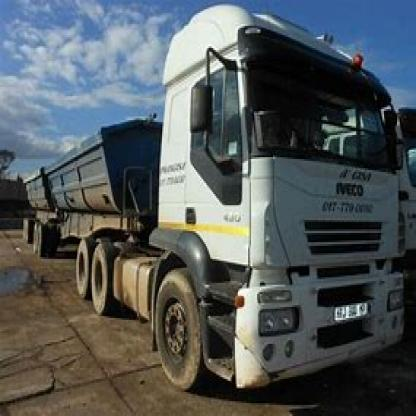dump_truck: (16, 7, 409, 384)
